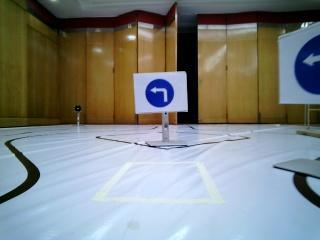left: (136, 75, 182, 110)
